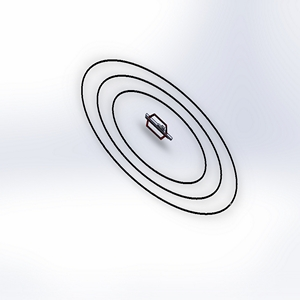circle: (74, 51, 249, 222)
submarine: (136, 108, 181, 146)
